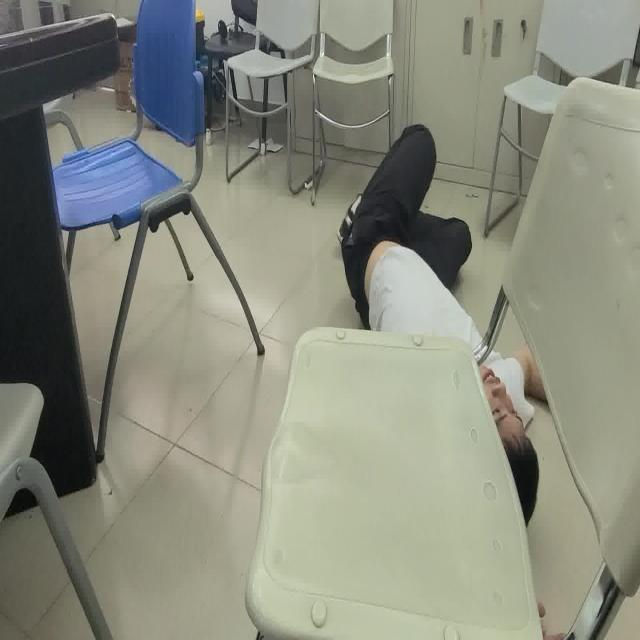fall: (337, 119, 564, 640)
